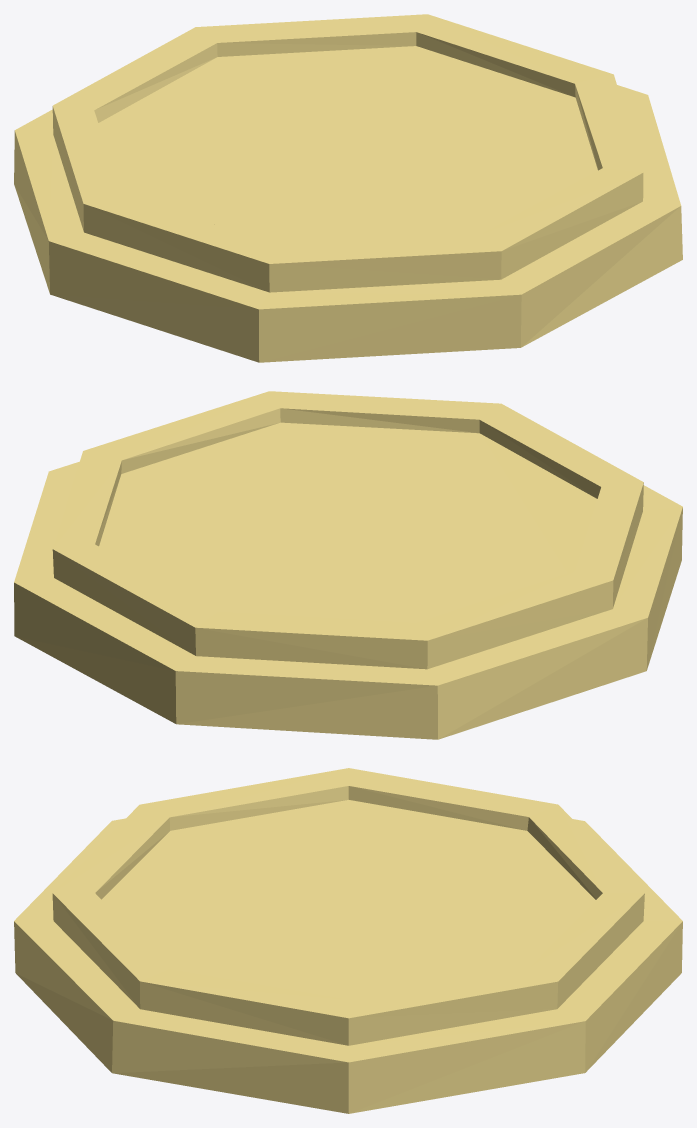
File: Greek_stand.fbx
The picture shows the model from 3 angles, top to bottom: view 1: azimuth 30°, elevation 25°; view 2: azimuth 150°, elevation 25°; view 3: azimuth 270°, elevation 25°; orthographic projection. The views are drawn at different scales.
Parts seen in each view (by area): view 1: Stand; view 2: Stand; view 3: Stand.
Part boxes in pixels (x1,y1,x2,y2): Stand: (14, 14, 682, 362); Stand: (14, 391, 682, 739); Stand: (14, 768, 682, 1113).
Size of the model in its own units: 691 by 91.25 by 690.
